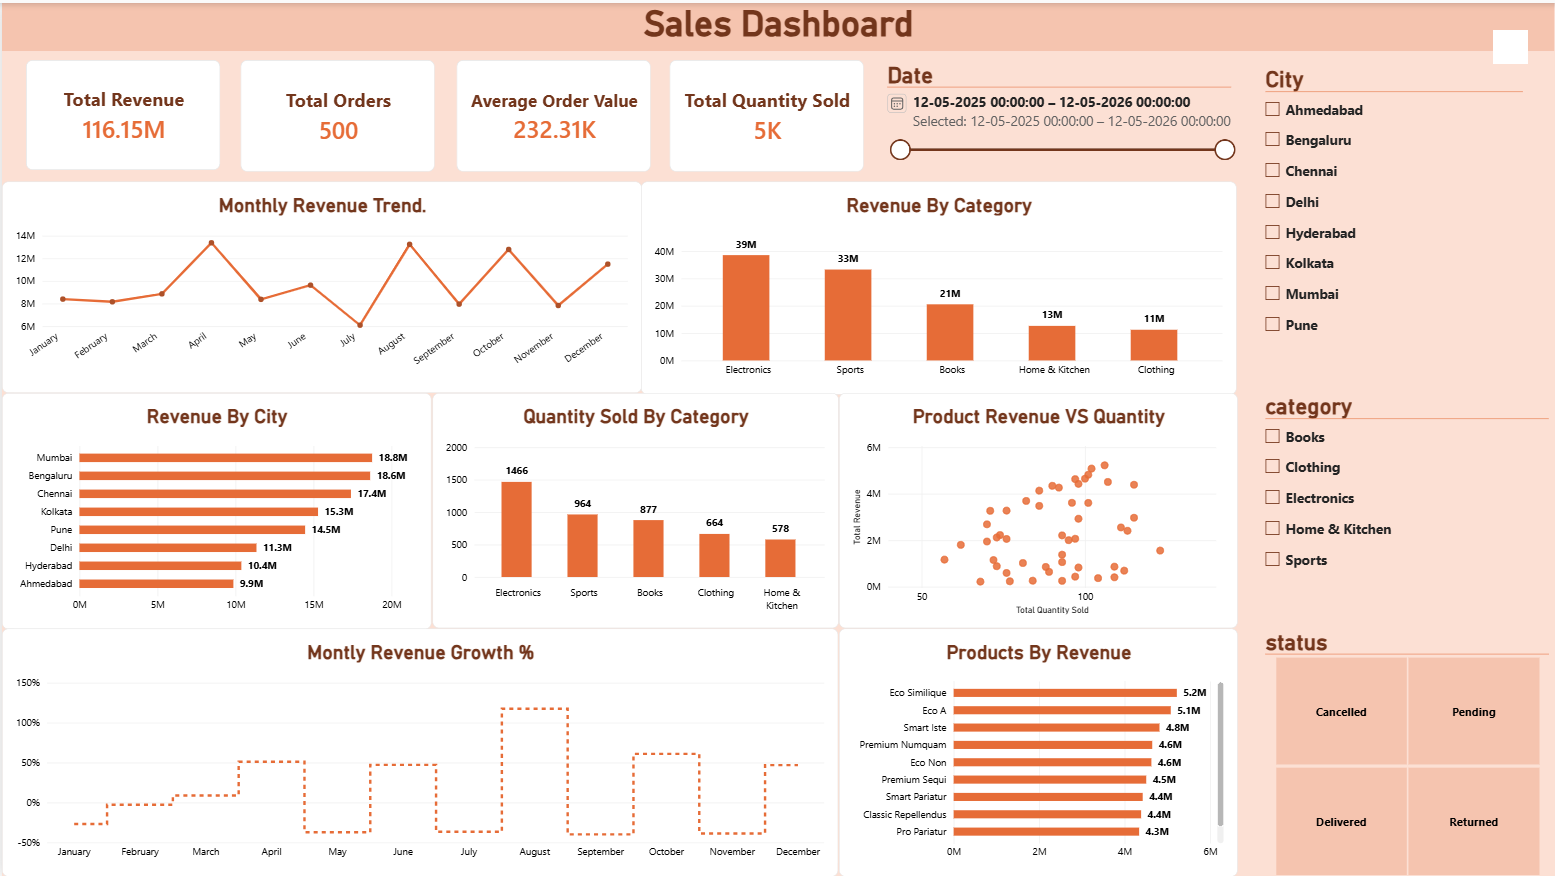

What the dashboard file says about the page in this screenshot:
{"tool":"powerbi","page":{"name":"Sales Performance","canvas":[1920,1080],"ordinal":0},"visuals":[{"type":"cardVisual","fields":{"Data":["order_items.Total Revenue"]},"box":[29.5,70.4,240.8,136.3],"z":0},{"type":"cardVisual","fields":{"Data":["orders.Total Orders"]},"box":[295.3,70.4,240.8,138.5],"z":1000},{"type":"cardVisual","fields":{"Data":["orders.Average Order Value"]},"box":[561,70.4,240.8,138.5],"z":2000},{"type":"cardVisual","fields":{"Data":["order_items.Total Quantity Sold"]},"box":[824.5,70.4,240.8,138.5],"z":3000},{"type":"lineChart","title":"Monthly Revenue Trend.","fields":{"Category":["DateTable.Month"],"Y":["order_items.Total Revenue"]},"box":[0,220.3,790.4,261.2],"z":4000},{"type":"clusteredColumnChart","title":"Revenue By Category","fields":{"Category":["products.category"],"Y":["order_items.Total Revenue"]},"box":[790.4,220.3,735.9,263.5],"z":5000},{"type":"barChart","title":"Products By Revenue","fields":{"Category":["products.product_name"],"Y":["order_items.Total Revenue"]},"box":[1033.4,772.2,492.9,306.6],"z":6000},{"type":"barChart","title":"Revenue By City","fields":{"Category":["customers.city"],"Y":["order_items.Total Revenue"]},"box":[0,481.5,530.6,291.8],"z":7000},{"type":"columnChart","title":"Quantity Sold By Category","fields":{"Category":["products.category"],"Y":["order_items.Total Quantity Sold"]},"box":[531.5,481.5,502,290.7],"z":8000},{"type":"scatterChart","title":"Product Revenue VS Quantity","fields":{"Category":["products.product_name"],"X":["order_items.Total Quantity Sold"],"Y":["order_items.Total Revenue"]},"box":[1033.4,481.5,492.9,290.7],"z":9000},{"type":"lineChart","title":"Montly Revenue Growth %","fields":{"Category":["DateTable.Date.Variation.Date Hierarchy.Month"],"Y":["order_items.Revenue Growth %"]},"box":[0,772.2,1033.4,306.6],"z":10000},{"type":"textbox","title":"Sales Dashboard","box":[0,0,1919.3,59.1],"z":11000},{"type":"slicer","title":"City","fields":{"Values":["customers.city"]},"box":[1553.6,77.2,333.9,356.6],"z":11001},{"type":"slicer","fields":{"Values":["DateTable.Date"]},"box":[1085.7,72.7,440.6,134],"z":11002},{"type":"slicer","fields":{"Values":["products.category"]},"box":[1553.6,481.5,365.7,290.7],"z":11003},{"type":"slicer","fields":{"Values":["orders.status"]},"box":[1553.6,772.2,365.7,306.6],"z":11004}]}

Visuals, with their boxes in screenshot pixels (x1, y1, x2, y2), scaled from the page's 1920x1080 canvas onto the 1555x876 screenshot:
cardVisual - order_items.Total Revenue: box=[24, 57, 219, 168]
cardVisual - orders.Total Orders: box=[239, 57, 434, 169]
cardVisual - orders.Average Order Value: box=[454, 57, 649, 169]
cardVisual - order_items.Total Quantity Sold: box=[668, 57, 863, 169]
"Monthly Revenue Trend." lineChart: box=[0, 179, 640, 391]
"Revenue By Category" clusteredColumnChart: box=[640, 179, 1236, 392]
"Products By Revenue" barChart: box=[837, 626, 1236, 875]
"Revenue By City" barChart: box=[0, 391, 430, 627]
"Quantity Sold By Category" columnChart: box=[430, 391, 837, 626]
"Product Revenue VS Quantity" scatterChart: box=[837, 391, 1236, 626]
"Montly Revenue Growth %" lineChart: box=[0, 626, 837, 875]
"Sales Dashboard" textbox: box=[0, 0, 1554, 48]
"City" slicer: box=[1258, 63, 1529, 352]
slicer - DateTable.Date: box=[879, 59, 1236, 168]
slicer - products.category: box=[1258, 391, 1554, 626]
slicer - orders.status: box=[1258, 626, 1554, 875]
